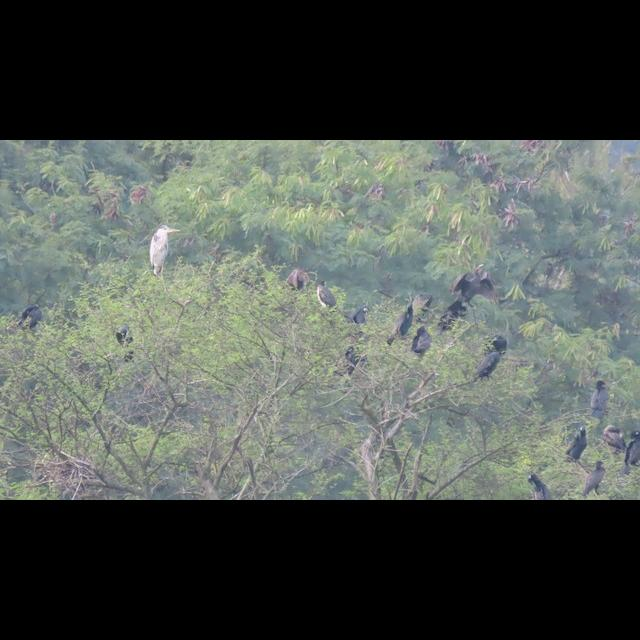cormorant: (456, 258, 498, 312), (472, 348, 512, 386), (384, 300, 412, 350), (561, 422, 591, 468), (584, 459, 610, 499), (589, 378, 609, 424), (519, 472, 551, 500), (314, 280, 338, 314), (626, 428, 640, 478)
heron: (146, 218, 180, 278)
